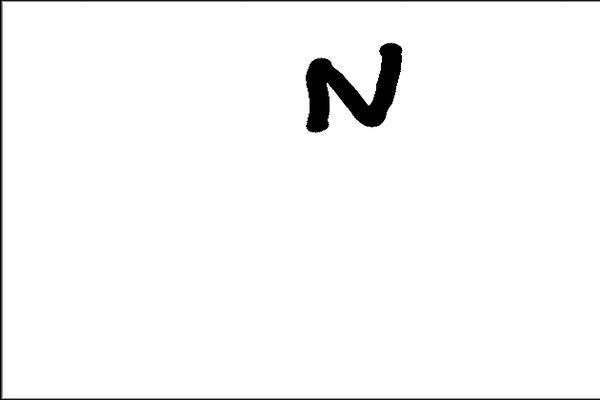N: (298, 37, 409, 138)
